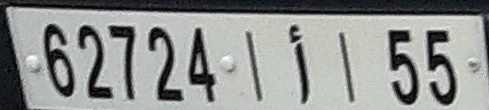2: (145, 24, 188, 105), (76, 23, 116, 102)
4: (185, 25, 221, 104)
5: (383, 25, 423, 108), (422, 25, 461, 107)
6: (39, 20, 77, 103)
7: (106, 21, 142, 105)
a: (284, 22, 319, 105)
